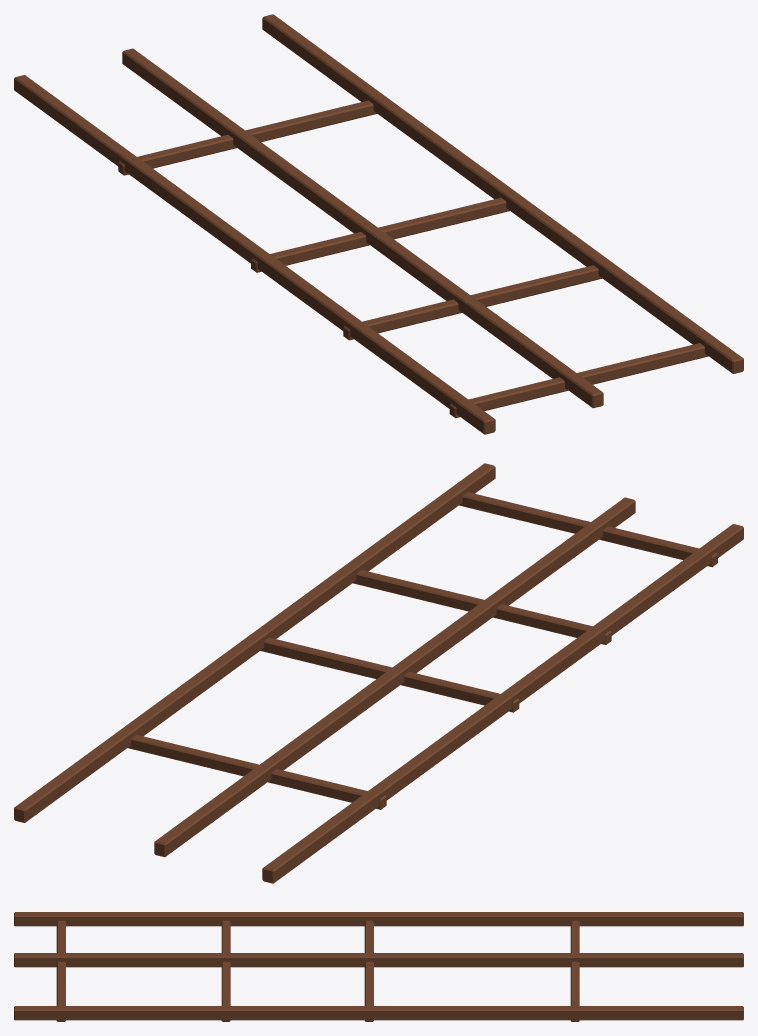
The model's file is SM_Menu_StageRigging.fbx.
The picture shows the model from 3 angles, top to bottom: view 1: azimuth 30°, elevation 25°; view 2: azimuth 150°, elevation 25°; view 3: azimuth 270°, elevation 25°; orthographic projection. The views are drawn at different scales.
Visible parts, largest first — view 1: SM_Menu_StageRigging; view 2: SM_Menu_StageRigging; view 3: SM_Menu_StageRigging.
Boxes of the visible parts, x1,y1,x2,y2 form: SM_Menu_StageRigging: (14,14,743,434); SM_Menu_StageRigging: (14,463,743,883); SM_Menu_StageRigging: (14,912,743,1021).
Size of the model in its own units: 412 by 1280 by 26.
